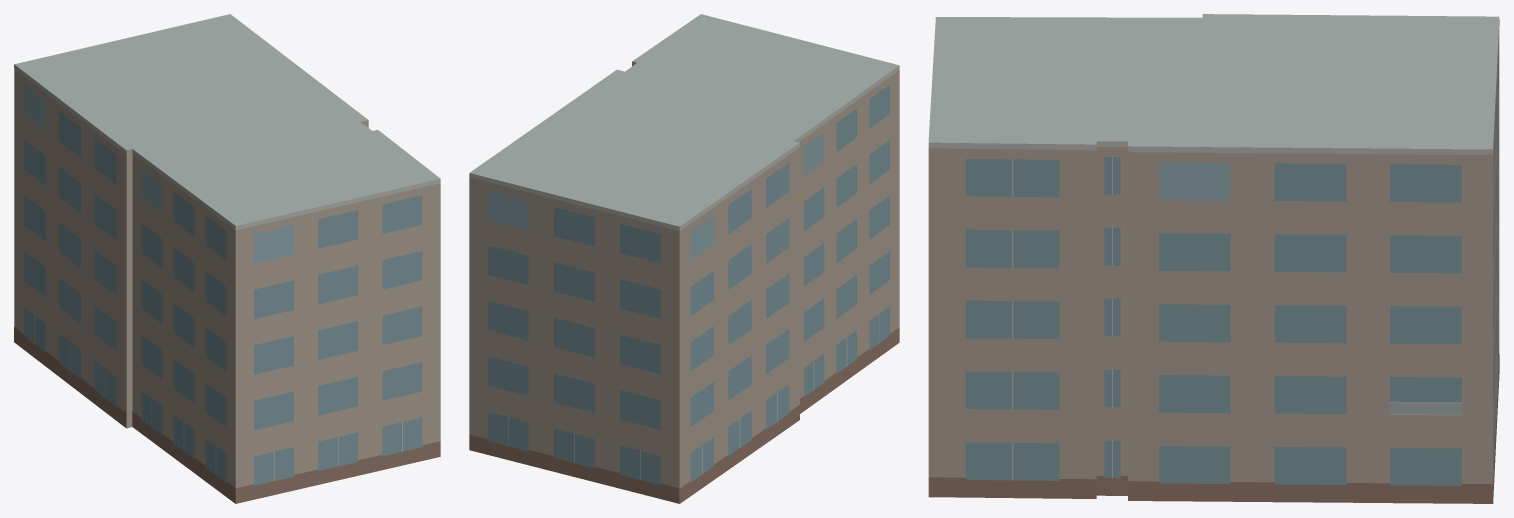
Rendered from survey-upis-32974219.glb.
The picture shows the model from 3 angles, left to right: view 1: azimuth 30°, elevation 25°; view 2: azimuth 150°, elevation 25°; view 3: azimuth 270°, elevation 25°; orthographic projection. The views are drawn at different scales.
Parts seen in each view (by area): view 1: survey-upis-32974219.tmp; view 2: survey-upis-32974219.tmp; view 3: survey-upis-32974219.tmp.
Part boxes in pixels (<box>): survey-upis-32974219.tmp: <box>14,14,440,503</box>; survey-upis-32974219.tmp: <box>469,14,899,503</box>; survey-upis-32974219.tmp: <box>928,14,1499,503</box>.
Size of the model in its own units: 12.56 by 15.3 by 22.35.
